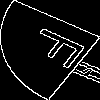F: (25, 25, 99, 75)
